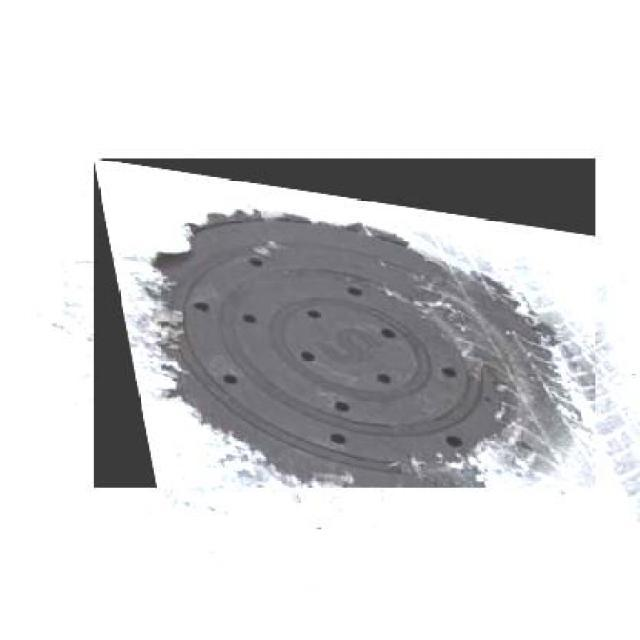Manhole: (94, 158, 596, 488)
